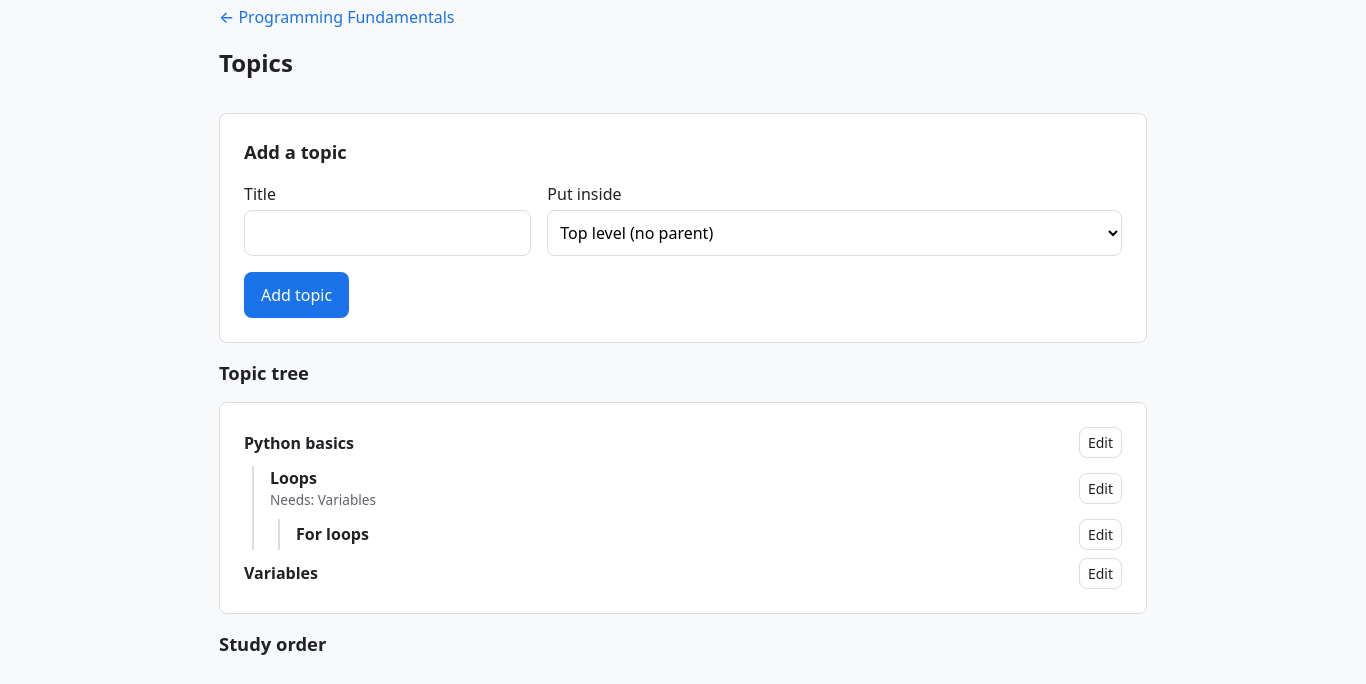
topics page (teacher) › deletes a topic and its subtopics after confirming
What coordinates should you click on to do the following:
click the 1st button "Edit"
I would click on:
 (1100, 443)
Its box is [1079,427,1122,458].
(page scrolled)
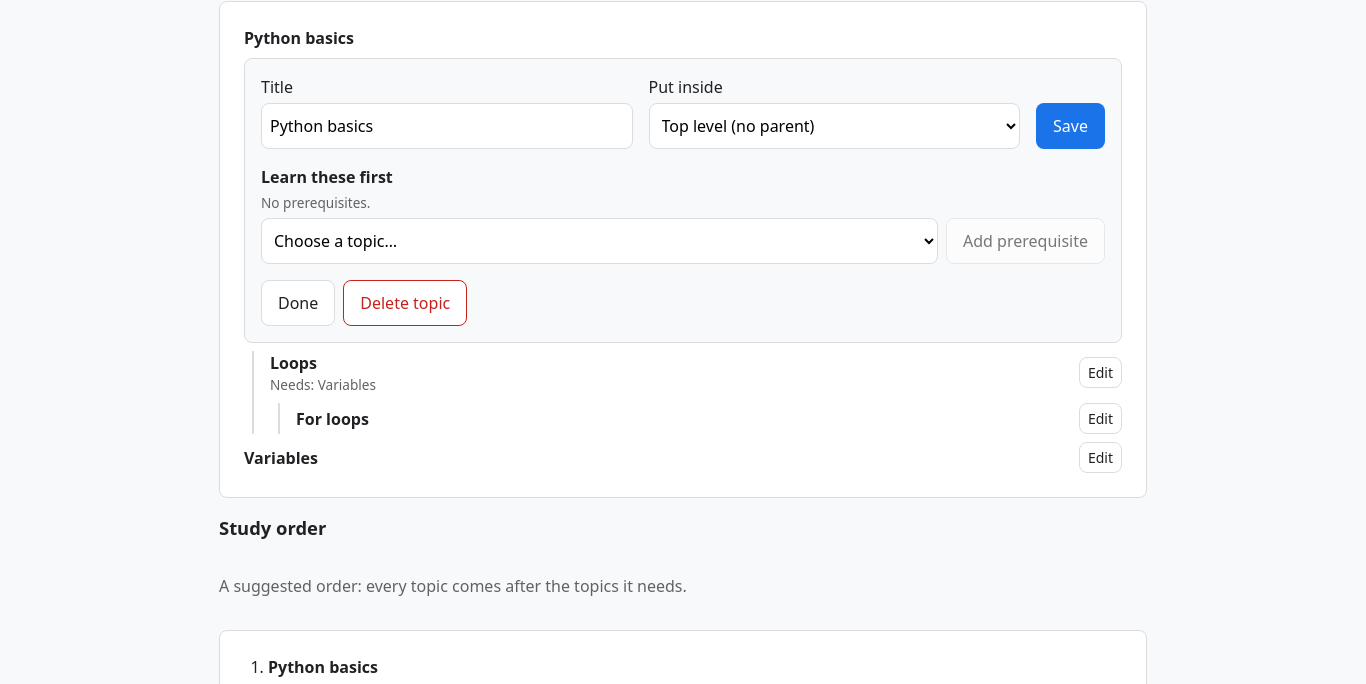
What coordinates should you click on to do the following:
click the button "Delete topic"
I would click on:
 (405, 303)
Its box is [343,280,467,326].
(page scrolled)
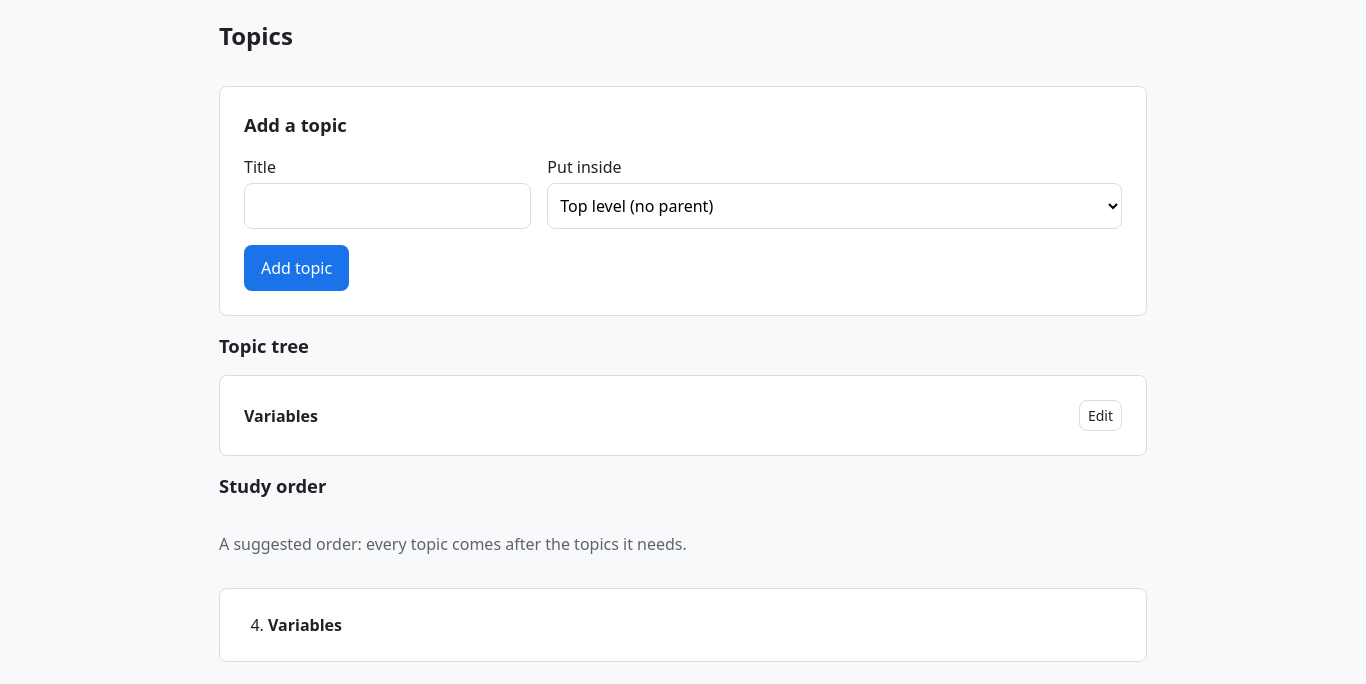
Expected: the text "Variables" below "Topic tree" is shown, [244,405,318,427]
Expected: the text "Python basics" is gone
Expected: the text "For loops" is gone
